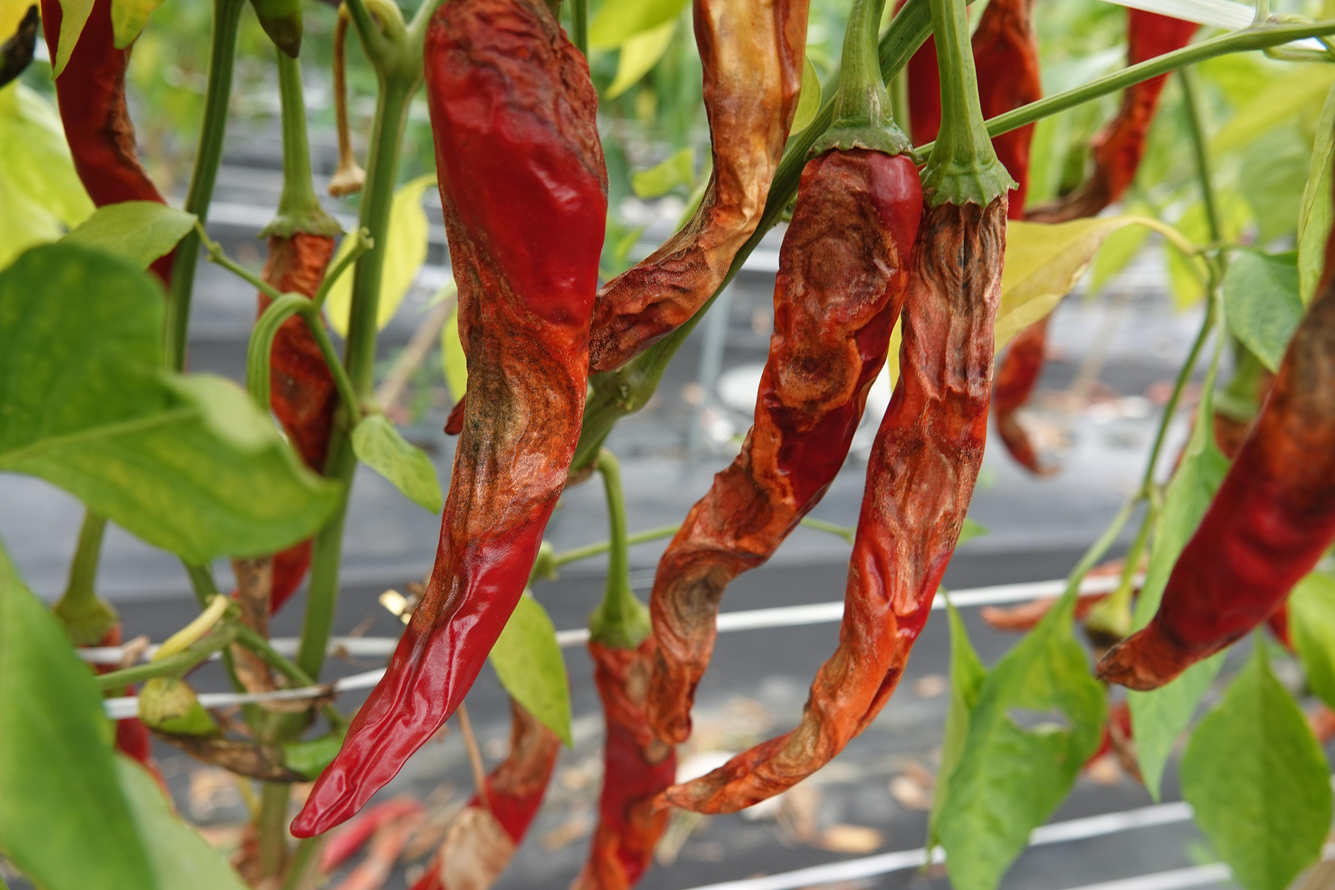Busuk Buah Antraknosa: (286, 1, 612, 841), (646, 142, 1023, 812), (650, 125, 914, 744)
